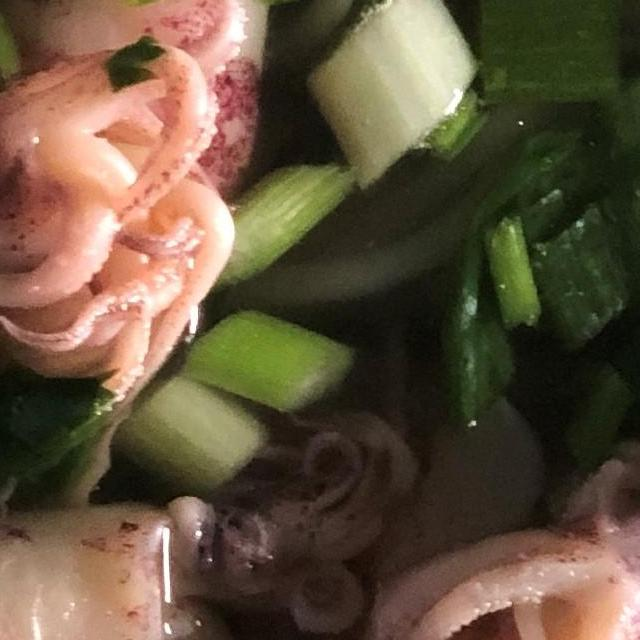bun: (226, 0, 640, 312)
muc: (330, 112, 640, 640), (0, 0, 254, 640), (0, 0, 347, 415), (0, 374, 450, 640)
